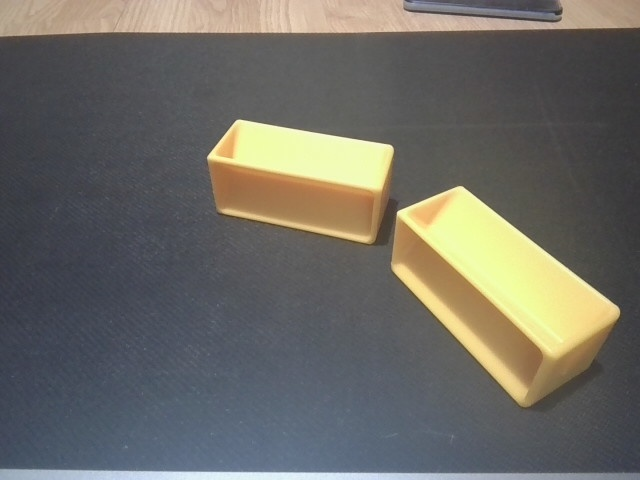YellowSample: (388, 183, 622, 410), (203, 114, 396, 247)
